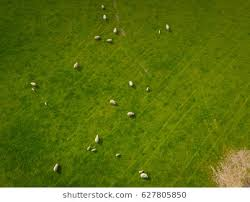sheep: (111, 26, 119, 35), (164, 23, 171, 33), (139, 172, 149, 179), (109, 98, 117, 106), (126, 110, 135, 117), (94, 134, 100, 144), (52, 162, 58, 172), (72, 61, 78, 70), (93, 33, 100, 40), (127, 80, 134, 87), (101, 13, 107, 21), (30, 81, 37, 87), (115, 152, 121, 158), (99, 3, 104, 10), (90, 147, 97, 152), (144, 86, 149, 92), (105, 38, 112, 42)
